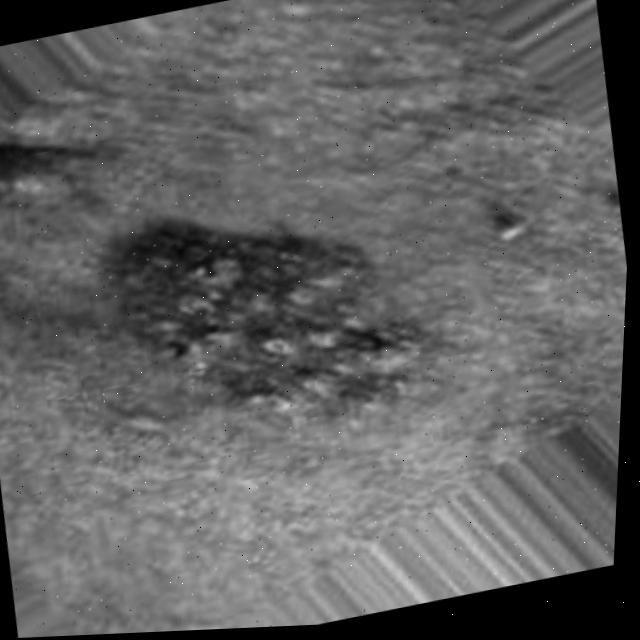Shingles: (108, 171, 425, 460)
